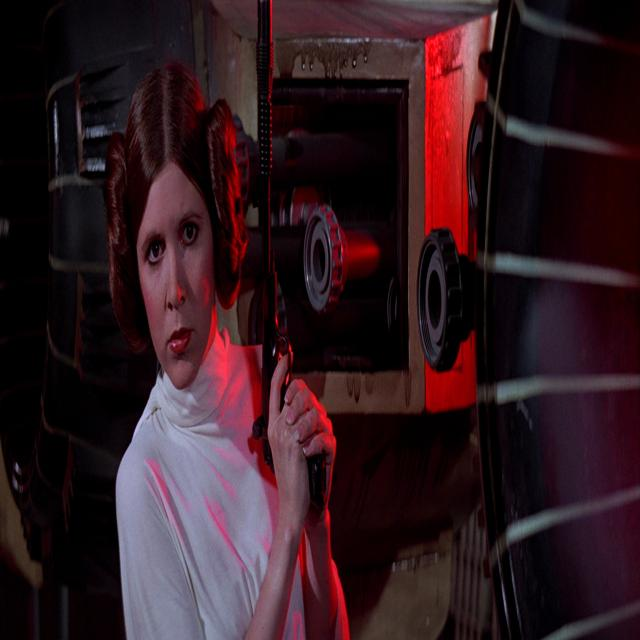gun: (234, 207, 342, 497)
